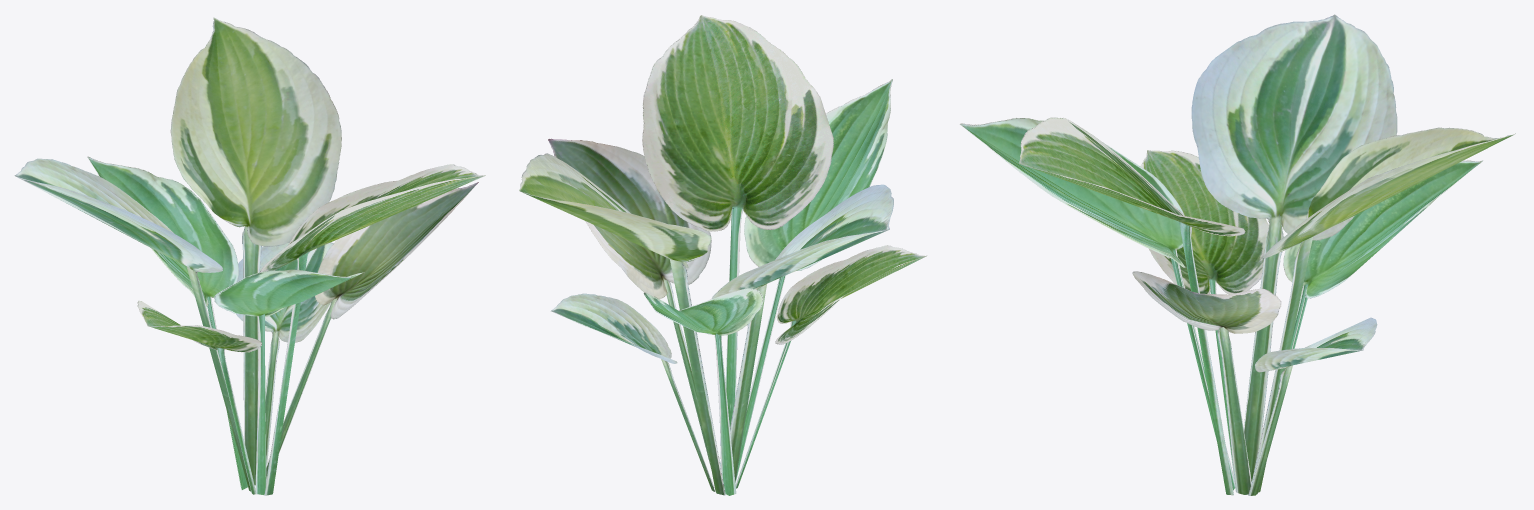
Rendered from plant_small_wg_00A2_wild.fbx.
The picture shows the model from 3 angles, left to right: view 1: azimuth 30°, elevation 25°; view 2: azimuth 150°, elevation 25°; view 3: azimuth 270°, elevation 25°; orthographic projection. The views are drawn at different scales.
Visible parts, largest first — view 1: plant_small_wg_00A2_wild; view 2: plant_small_wg_00A2_wild; view 3: plant_small_wg_00A2_wild.
Boxes of the visible parts, box(x1,y1,x2,y2) form: plant_small_wg_00A2_wild: box(14, 17, 485, 495); plant_small_wg_00A2_wild: box(519, 15, 926, 495); plant_small_wg_00A2_wild: box(960, 14, 1515, 495).
Size of the model in its own units: 52.99 by 45.98 by 58.27.
